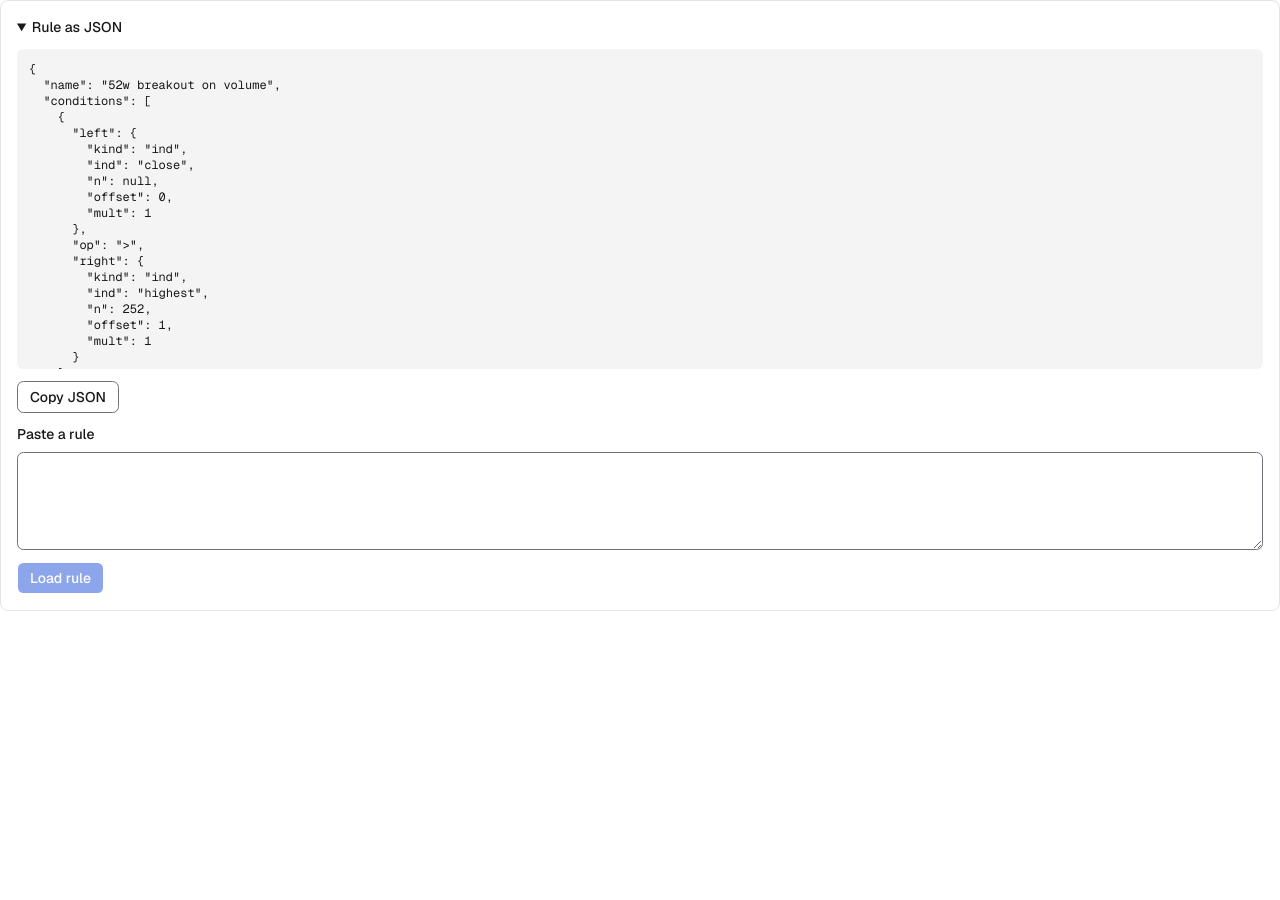
JsonPanel › says Not a rule for text that is not JSON and changes nothing
This screenshot has width=1280, height=900.
Click the text box labelled "Paste a rule" at (640, 501), box [17,452,1263,550]
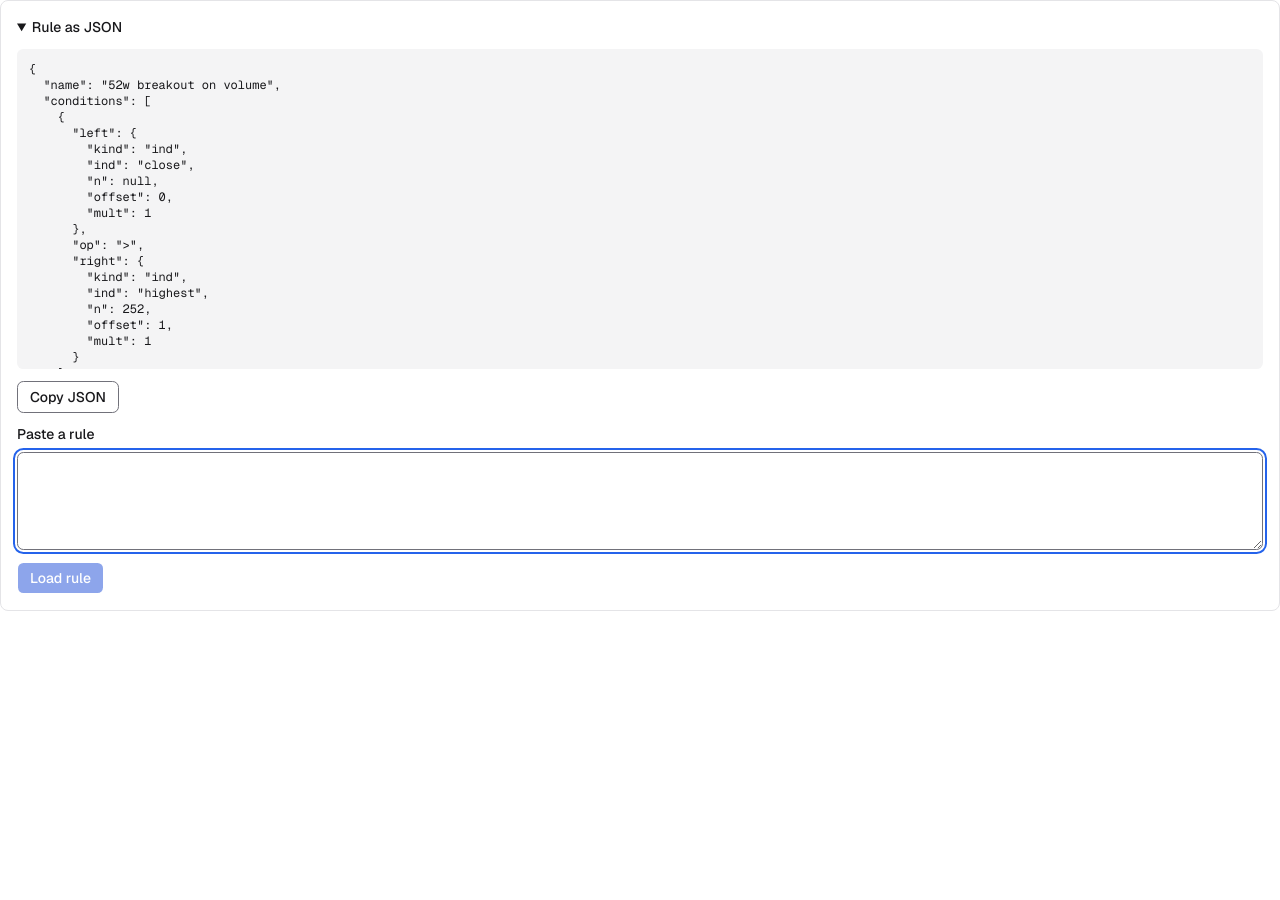
Type keys "close > sma(50)"
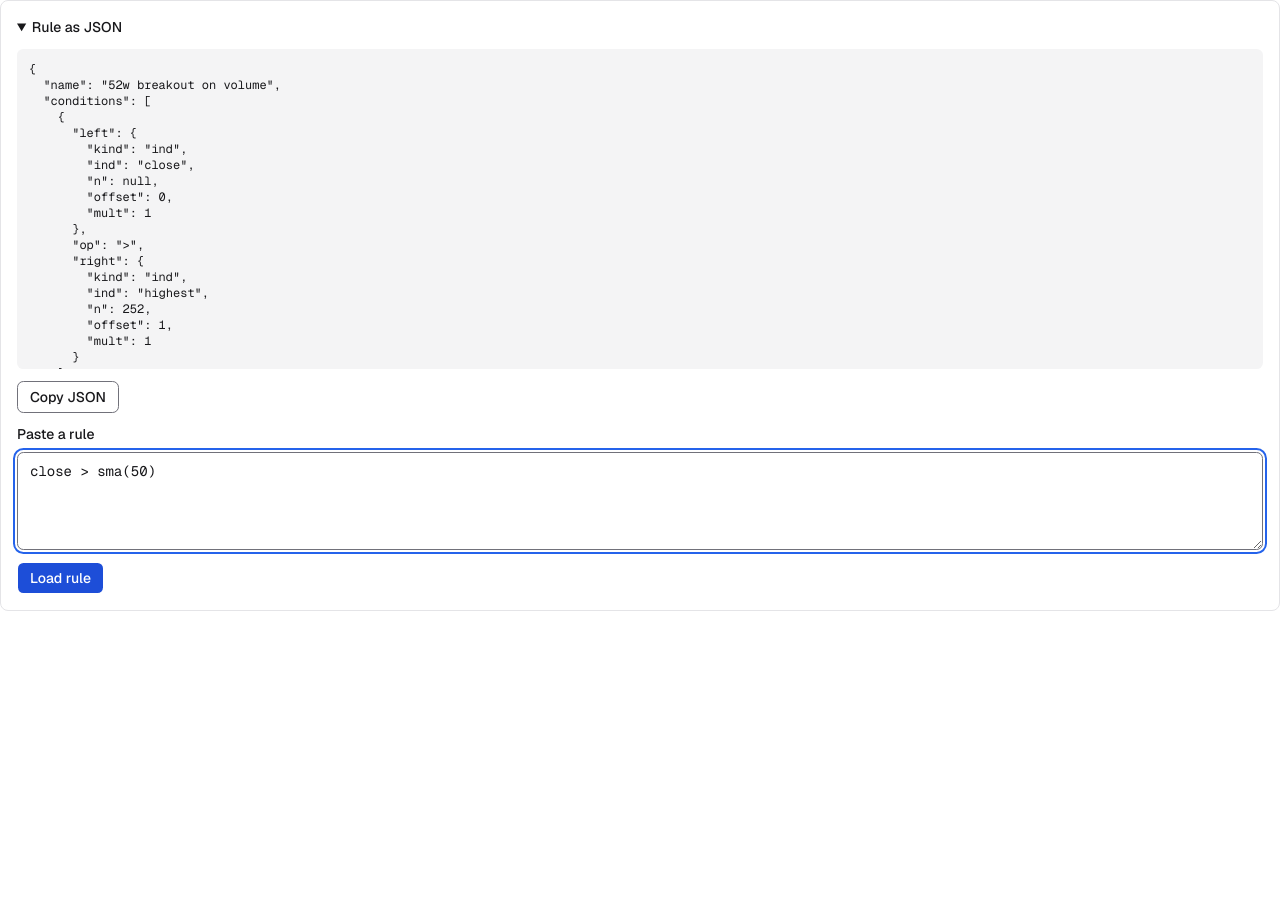
Click the button "Load rule" at (60, 578), box [17,562,104,594]
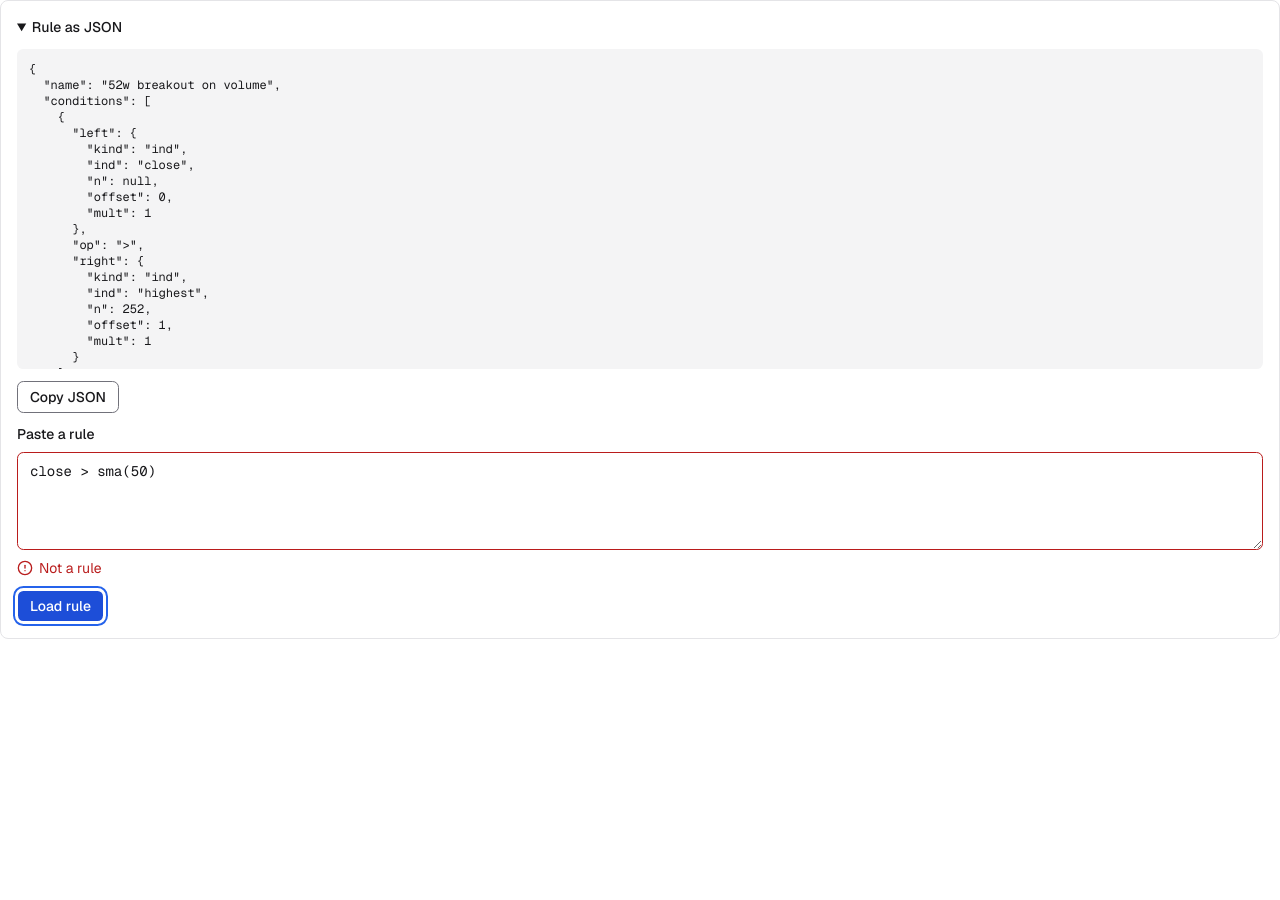
Check: the text box labelled "Paste a rule" holds "close > sma(50)", box [17,452,1263,550]
Check: the text "Not a rule" is shown, box [39,558,102,578]
